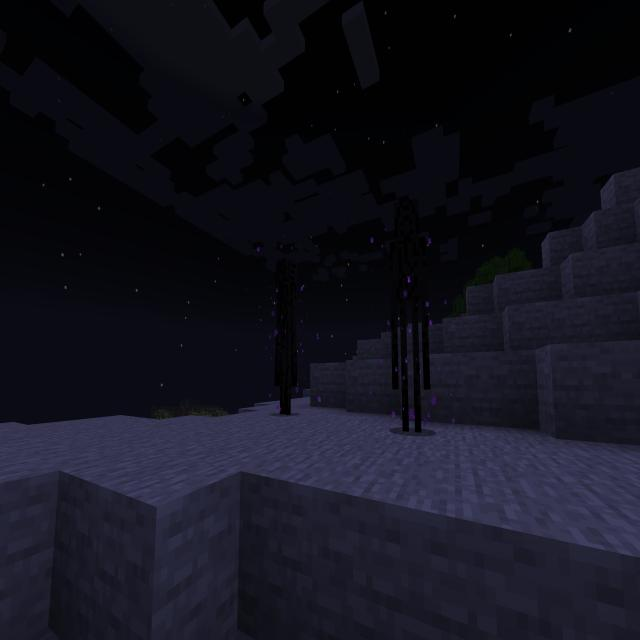Enderman: (386, 195, 435, 435), (273, 252, 299, 417)
